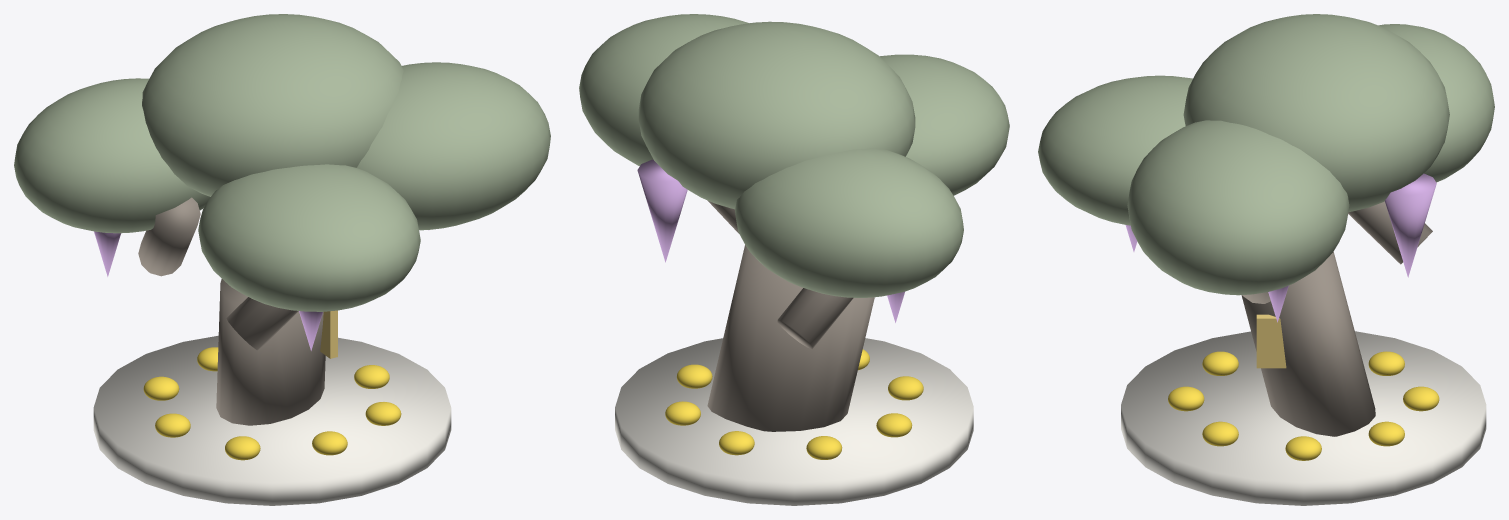
File: flora_olive_tree.glb
3 renders of one model, left to right at view 1: azimuth 30°, elevation 25°; view 2: azimuth 150°, elevation 25°; view 3: azimuth 270°, elevation 25°, orthographic. The views are drawn at different scales.
Visible parts, largest first — view 1: Cylinder, Sphere.003, Sphere.002, Sphere.001, Sphere, Cylinder.001, Cylinder.002, Cylinder.004, Cube, Sphere.010, Sphere.007, Sphere.008 (+4 smaller); view 2: Sphere.003, Cylinder, Sphere, Cylinder.001, Sphere.002, Sphere.001, Cylinder.002, Cone.003, Sphere.004, Sphere.009, Sphere.008, Sphere.005 (+2 smaller); view 3: Cylinder, Sphere.003, Sphere.001, Sphere.002, Cylinder.001, Sphere, Cone.003, Cylinder.002, Cube, Sphere.011, Sphere.006, Sphere.010 (+4 smaller).
Boxes of the visible parts, <box> form: Cylinder: <box>93,335,451,505</box>; Sphere.003: <box>142,14,403,196</box>; Sphere.002: <box>198,164,420,311</box>; Sphere.001: <box>357,62,550,230</box>; Sphere: <box>14,78,210,233</box>; Cylinder.001: <box>216,279,325,425</box>; Cylinder.002: <box>138,197,200,276</box>; Cylinder.004: <box>226,297,298,350</box>; Cube: <box>320,310,337,358</box>; Sphere.010: <box>312,431,347,455</box>; Sphere.007: <box>143,376,179,400</box>; Sphere.008: <box>155,413,190,437</box>; Sphere.003: <box>638,21,915,209</box>; Cylinder: <box>615,338,973,505</box>; Sphere: <box>735,148,963,297</box>; Cylinder.001: <box>707,245,874,431</box>; Sphere.002: <box>880,54,1009,195</box>; Sphere.001: <box>579,14,749,166</box>; Cylinder.002: <box>777,288,853,349</box>; Cone.003: <box>637,159,687,262</box>; Sphere.004: <box>676,364,712,388</box>; Sphere.009: <box>888,376,923,400</box>; Sphere.008: <box>876,413,912,437</box>; Sphere.005: <box>665,401,700,425</box>; Cylinder: <box>1121,331,1486,505</box>; Sphere.003: <box>1183,14,1449,212</box>; Sphere.001: <box>1127,120,1349,295</box>; Sphere.002: <box>1038,75,1192,225</box>; Cylinder.001: <box>1241,252,1375,436</box>; Sphere: <box>1378,24,1494,182</box>; Cone.003: <box>1385,173,1436,277</box>; Cylinder.002: <box>1348,201,1432,264</box>; Cube: <box>1256,314,1286,368</box>; Sphere.011: <box>1202,421,1238,446</box>; Sphere.006: <box>1403,386,1439,411</box>; Sphere.010: <box>1168,386,1204,411</box>.
Bounding box in the file's own units: 3.95 × 3.38 × 3.5.
